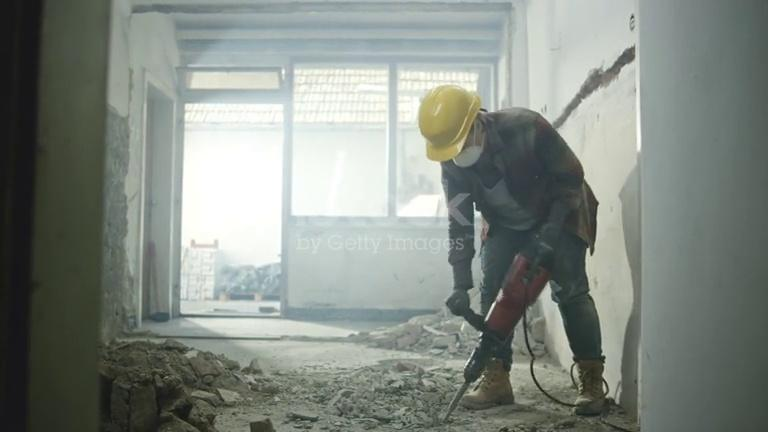helmet: (416, 84, 482, 162)
mask: (450, 131, 487, 168)
person: (416, 80, 612, 416)
